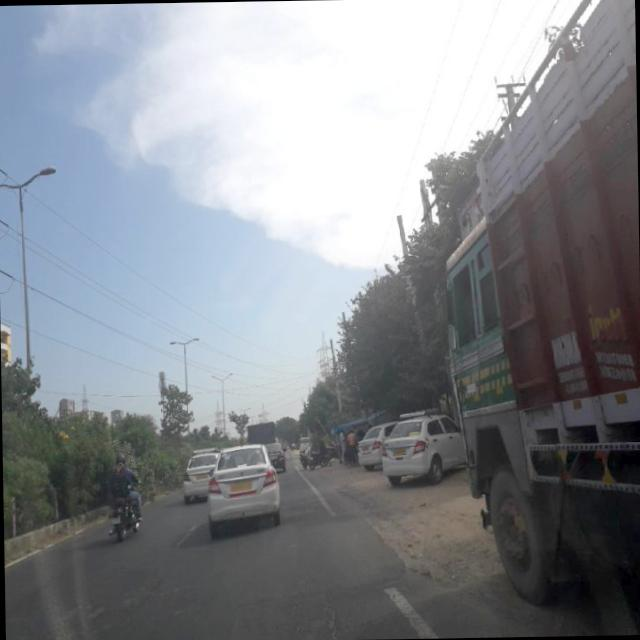crack: (216, 568, 404, 629)
